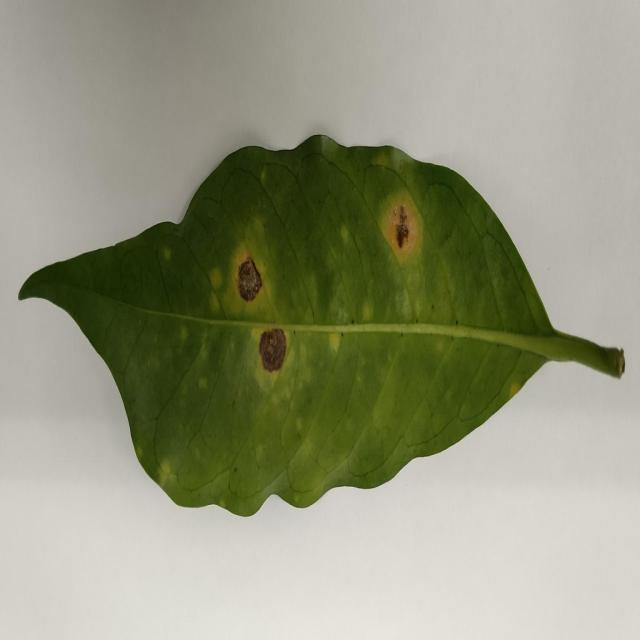Enfermedad-Mancha-de-hierro: (16, 137, 622, 519)
